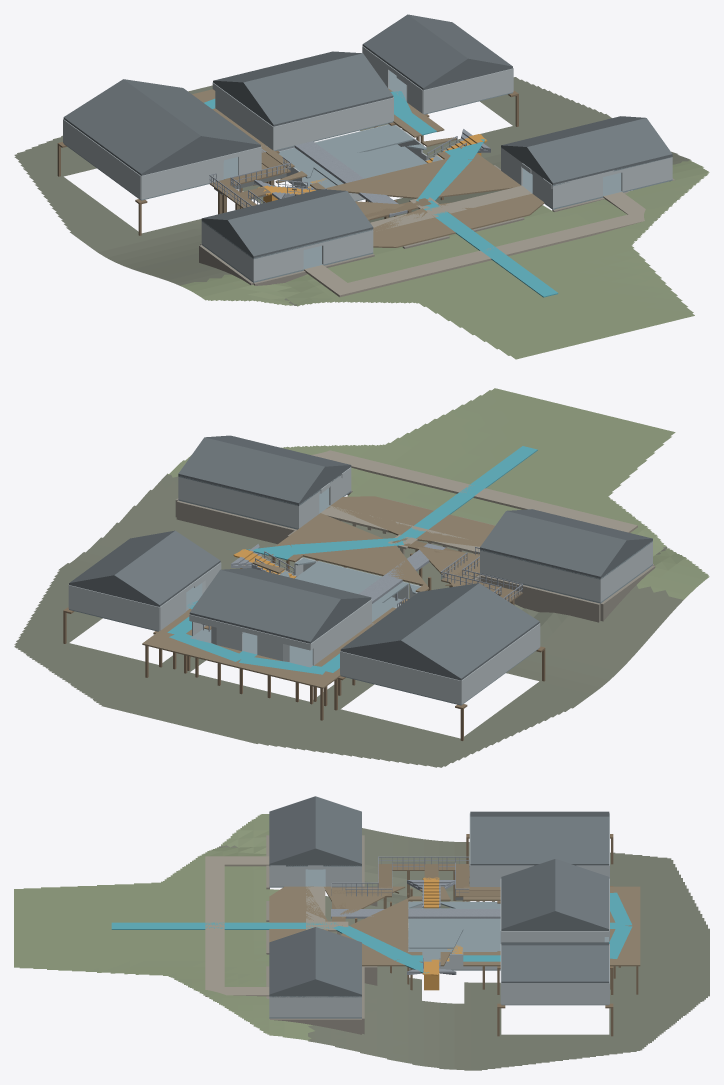
The model's file is constructed-circulation.glb.
3 views of the same model, one above another, from view 1: azimuth 30°, elevation 25°; view 2: azimuth 150°, elevation 25°; view 3: azimuth 270°, elevation 25° (orthographic). The views are drawn at different scales.
Parts seen in each view (by area): view 1: Saved editor macroterrain WLD-06, boathouse roof west, fish-house roof south, west-cottage roof south, east-cottage roof south, Entrance rebuild WLD-06 continuous approach pavement region0, net-store roof west, Wall fish S, boathouse roof east, Wall net S, Flat route shell Wall boathouse S, Wall boathouse W (+24 smaller); view 2: Saved editor macroterrain WLD-06, boathouse roof west, fish-house roof north, east-cottage roof north, west-cottage roof north, net-store roof west, Entrance rebuild WLD-06 continuous approach pavement region0, Wall boathouse N, boathouse roof east, Entrance rebuild WLD-06 cottage-a N end, Entrance rebuild WLD-06 cottage-b N end, Wall net N (+24 smaller); view 3: Saved editor macroterrain WLD-06, boathouse roof east, net-store roof east, Entrance rebuild WLD-06 continuous approach pavement region0, fish-house roof south, fish-house roof north, west-cottage roof north, west-cottage roof south, east-cottage roof south, east-cottage roof north, Wall net E, Wharf continuous west perimeter boardwalk region0 (+19 smaller).
Part boxes in pixels (x1,y1,x2,y2): Saved editor macroterrain WLD-06: (14,77,709,359); boathouse roof west: (63,79,200,174); fish-house roof south: (243,53,393,126); west-cottage roof south: (227,191,373,257); east-cottage roof south: (527,118,672,184); Entrance rebuild WLD-06 continuous approach pavement region0: (304,192,657,297); net-store roof west: (362,14,468,89); Wall fish S: (273,97,393,150); boathouse roof east: (124,79,260,146); Wall net S: (423,68,513,113); Flat route shell Wall boathouse S: (141,156,223,199); Wall boathouse W: (63,119,141,199); Saved editor macroterrain WLD-06: (14,388,709,767); boathouse roof west: (401,583,539,680); fish-house roof north: (189,570,340,643); east-cottage roof north: (178,437,324,504); west-cottage roof north: (480,511,626,578); net-store roof west: (114,530,220,606); Entrance rebuild WLD-06 continuous approach pavement region0: (311,450,637,532); Wall boathouse N: (340,651,461,704); boathouse roof east: (340,583,478,650); Entrance rebuild WLD-06 cottage-a N end: (480,550,601,602); Entrance rebuild WLD-06 cottage-b N end: (178,477,299,528); Wall net N: (68,585,159,630); Saved editor macroterrain WLD-06: (14,814,709,1070); boathouse roof east: (470,816,609,865); net-store roof east: (501,945,609,982); Entrance rebuild WLD-06 continuous approach pavement region0: (205,856,269,996); fish-house roof south: (501,859,555,930); fish-house roof north: (555,859,609,930); west-cottage roof north: (315,796,361,865); west-cottage roof south: (269,796,315,865); east-cottage roof south: (269,927,315,995); east-cottage roof north: (315,927,361,995); Wall net E: (501,983,609,1004); Wharf continuous west perimeter boardwalk region0: (332,864,500,925).
Size of the model in its own units: 70 by 11.34 by 90.
41 materials, 14 textured.
